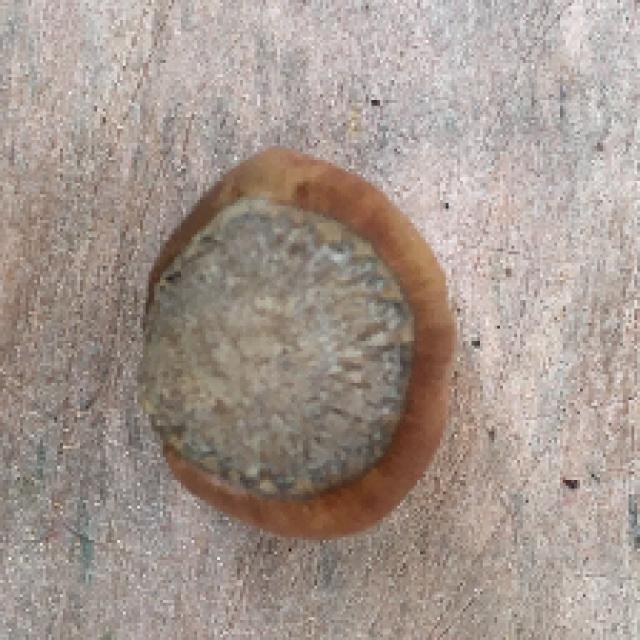qualityHazelnut: (132, 139, 459, 555)
